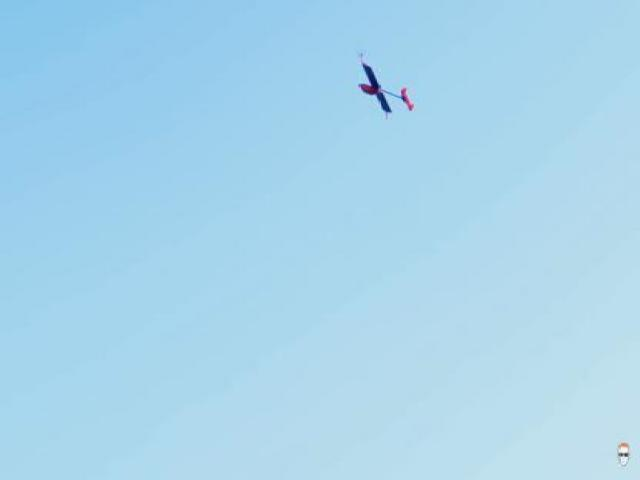uav: (356, 57, 416, 116)
